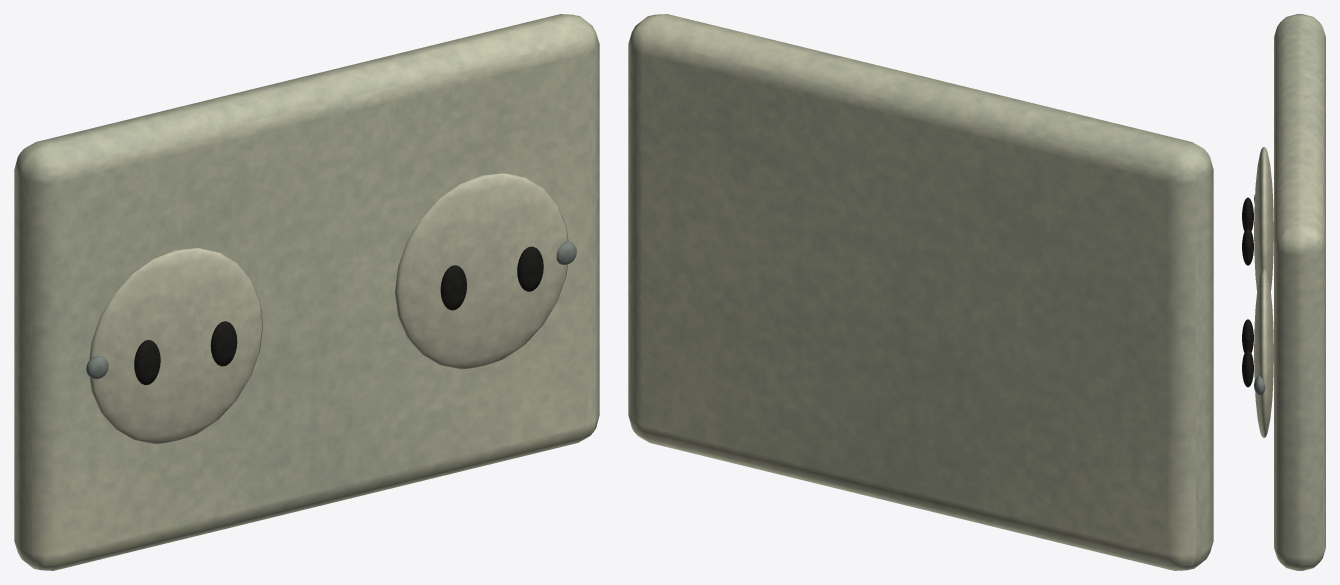
The model's file is Socket.fbx.
The picture shows the model from 3 angles, left to right: view 1: azimuth 30°, elevation 25°; view 2: azimuth 150°, elevation 25°; view 3: azimuth 270°, elevation 25°; orthographic projection. The views are drawn at different scales.
Parts seen in each view (by area): view 1: Socket_Enamel, Socket_Porcelain, Socket_Iron, Socket_Chrome; view 2: Socket_Enamel; view 3: Socket_Enamel, Socket_Porcelain, Socket_Iron, Socket_Chrome.
Boxes of the visible parts, x1,y1,x2,y2 form: Socket_Enamel: [14, 14, 599, 570]; Socket_Porcelain: [89, 173, 568, 443]; Socket_Iron: [134, 246, 543, 385]; Socket_Chrome: [86, 241, 576, 379]; Socket_Enamel: [628, 14, 1213, 570]; Socket_Enamel: [1274, 14, 1325, 570]; Socket_Porcelain: [1254, 147, 1273, 437]; Socket_Iron: [1242, 197, 1253, 387]; Socket_Chrome: [1254, 195, 1265, 395].
Bounding box in the file's own units: 13.5 × 9.5 × 2.1.
